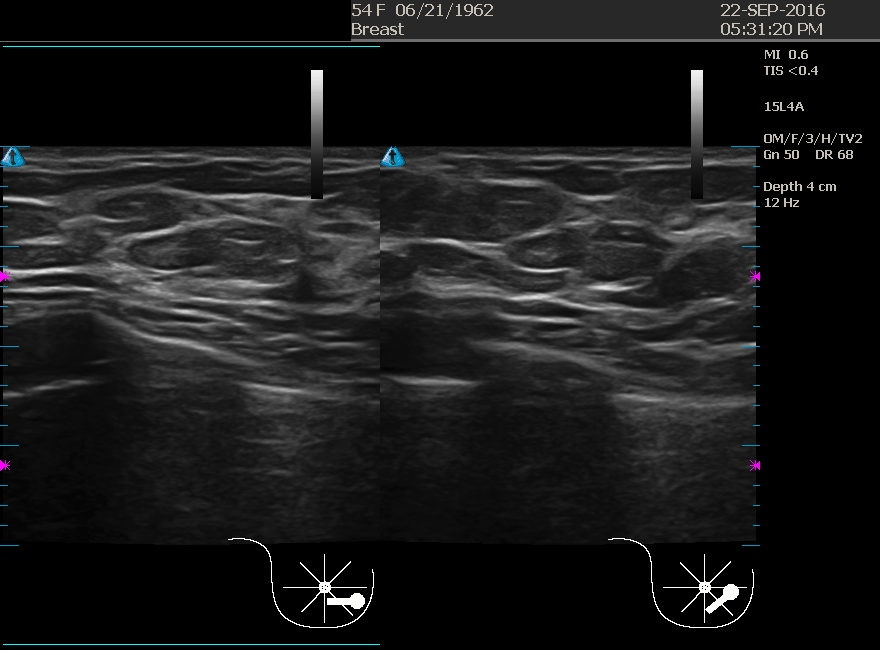Benign: (120, 202, 320, 402), (493, 207, 693, 407)
